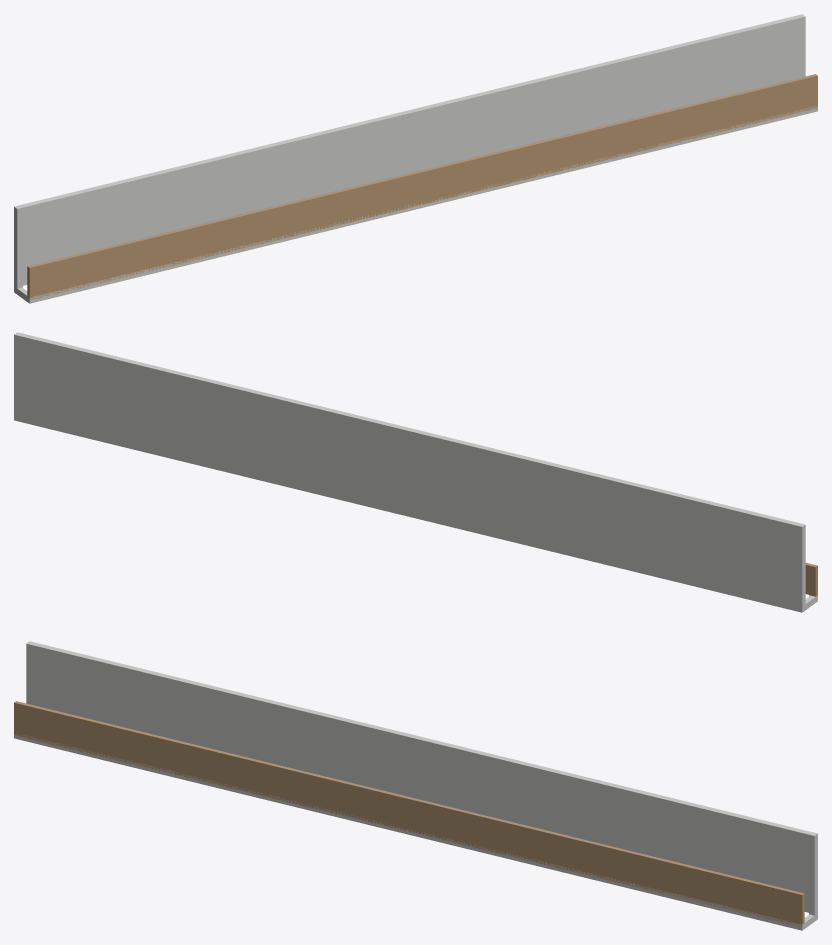
File: Arch_WallPipes_4m.gltf
The picture shows the model from 3 angles, top to bottom: view 1: azimuth 30°, elevation 25°; view 2: azimuth 150°, elevation 25°; view 3: azimuth 330°, elevation 25°; orthographic projection.
Parts seen in each view (by area): view 1: Arch_WallPipes_4m; view 2: Arch_WallPipes_4m; view 3: Arch_WallPipes_4m.
Part boxes in pixels (x1,y1,x2,y2): Arch_WallPipes_4m: (14, 14, 817, 303); Arch_WallPipes_4m: (14, 332, 817, 612); Arch_WallPipes_4m: (14, 641, 817, 930).
Size of the model in its own units: 4.04 by 0.42 by 0.139.
